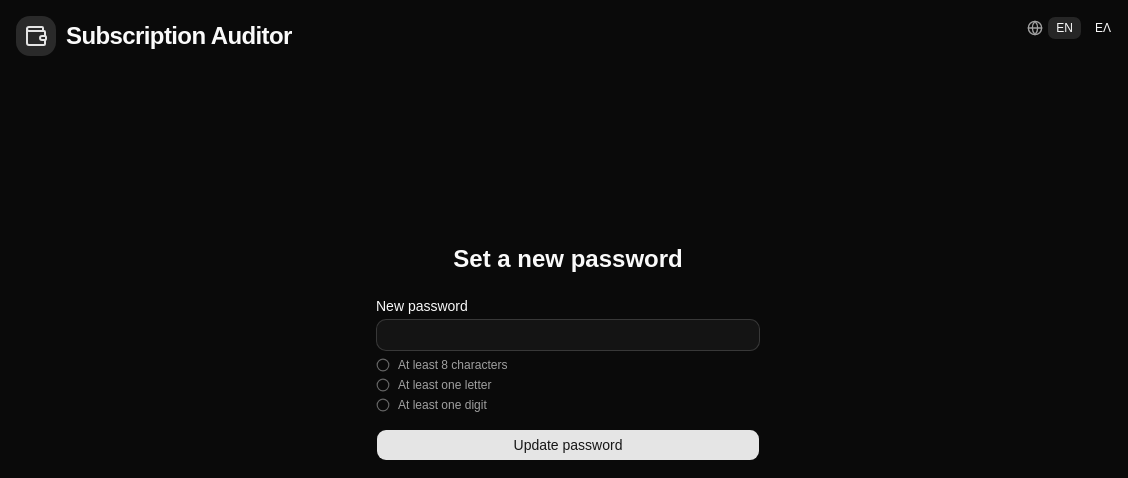
ResetPassword password policy › completes the reset for a compliant password
Type "correct1horse" into the password field labelled "New password" at x=568, y=335, box [376,319,760,351]
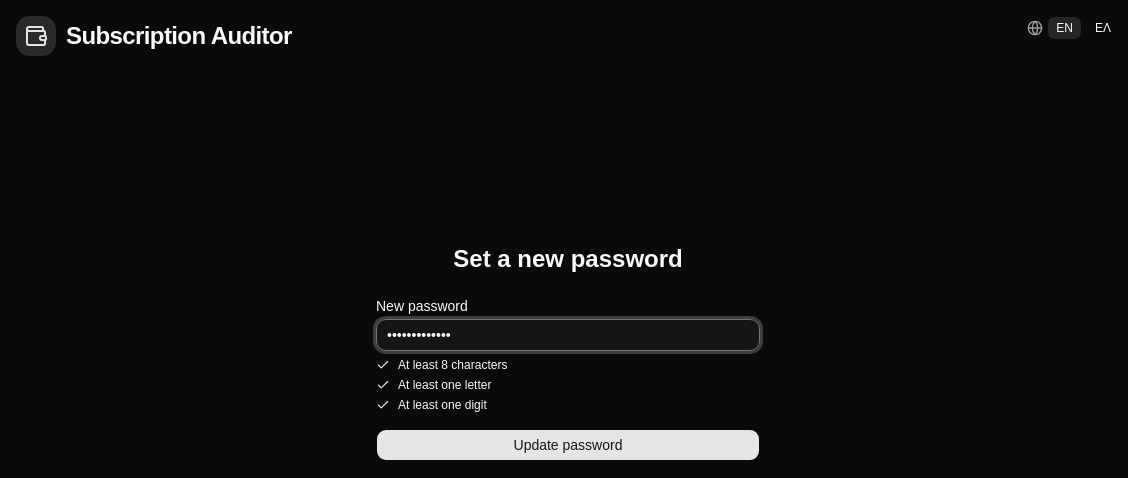
Click the button "Update password" at x=568, y=445, box [376,429,760,461]
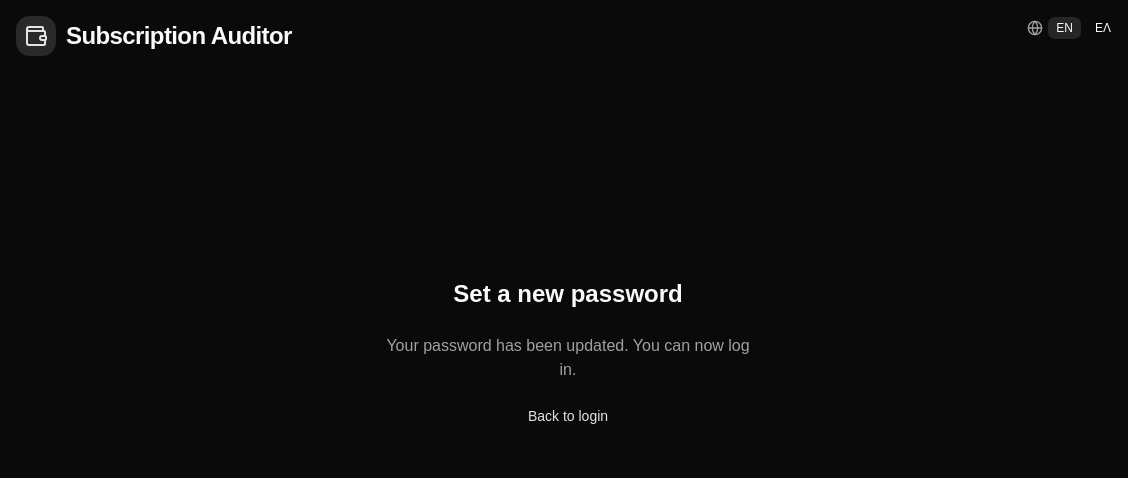
Now the text "Your password has been updated. You can now log in." is shown, box [376,334,760,382]
